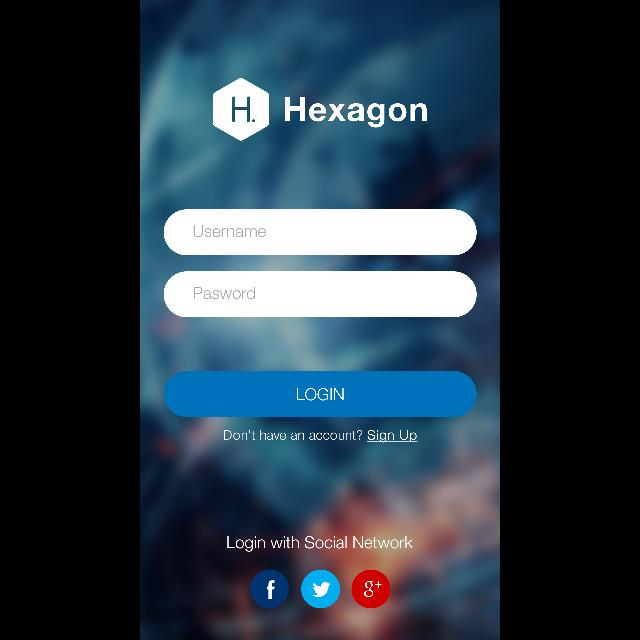backgroundimage: (140, 1, 500, 640)
icon: (250, 570, 290, 608), (302, 570, 341, 608), (352, 570, 391, 608)
image: (213, 78, 269, 142)
input: (164, 209, 476, 255), (164, 271, 476, 317)
text: (285, 98, 427, 128), (227, 536, 413, 552), (224, 430, 418, 442), (194, 225, 266, 237), (193, 287, 254, 299)
textbutton: (164, 371, 476, 417)
